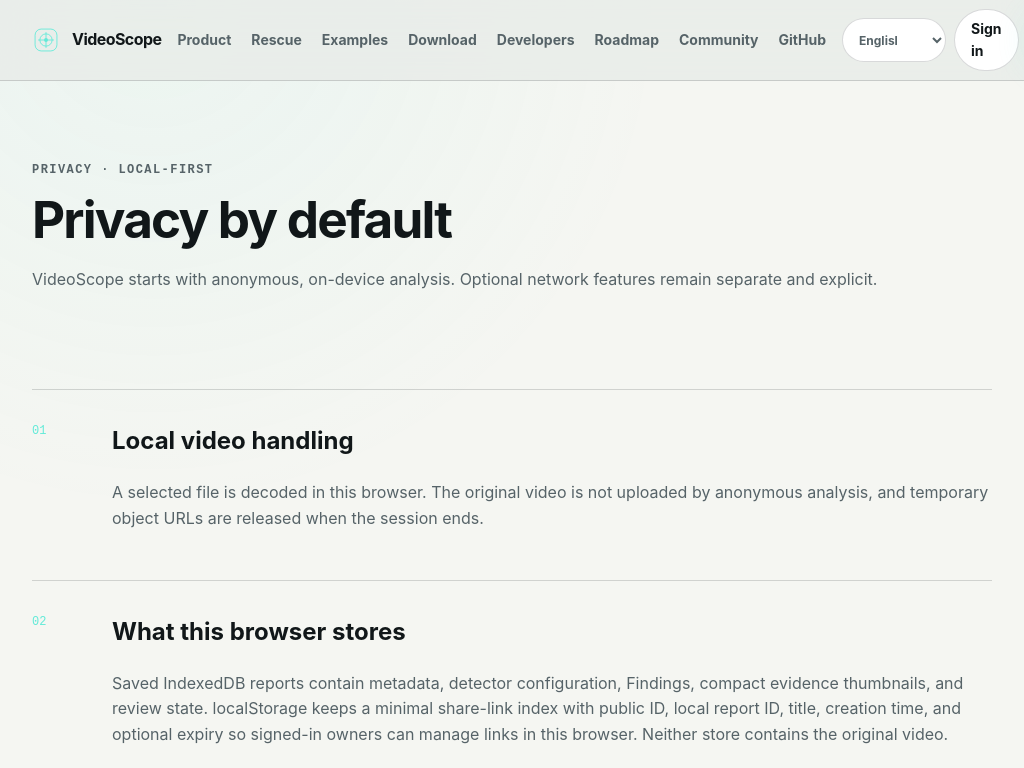
Test: public static pages › switches static-page copy to Simplified Chinese while preserving what912
Select "简体中文" in the dropdown named "Language" at (894, 40), box x1=842 y1=18 x2=946 y2=62
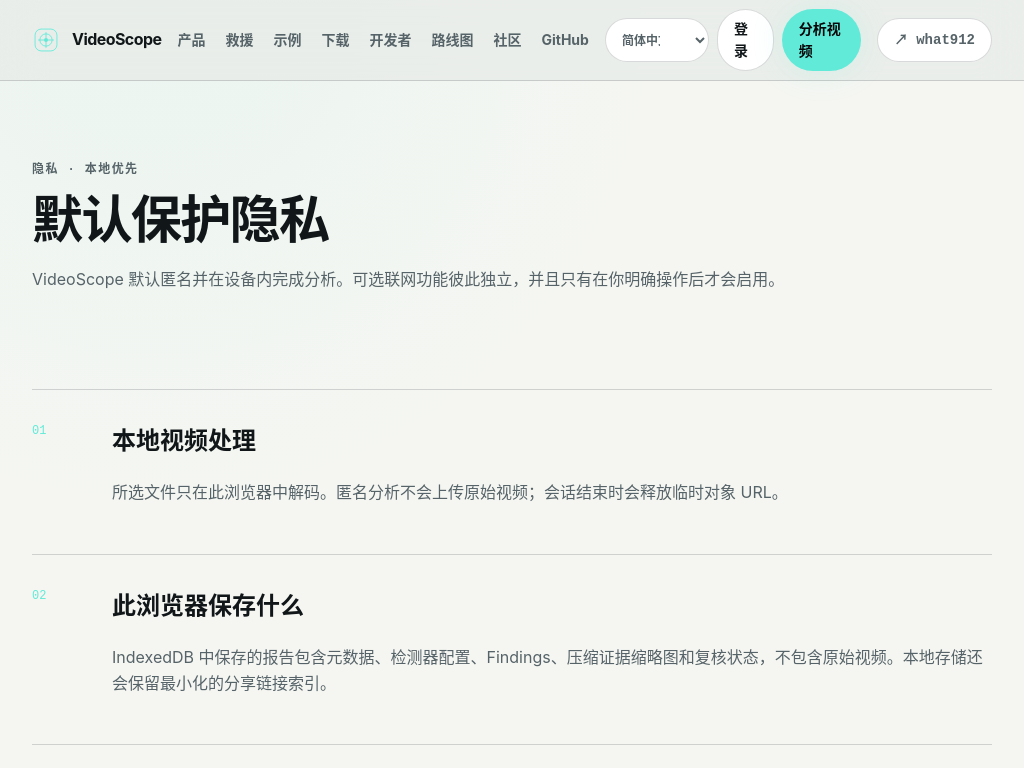
Expected: the link "↗ what912" is shown, x1=877 y1=18 x2=992 y2=62
Expected: the heading "默认保护隐私" is shown, x1=32 y1=188 x2=328 y2=250
